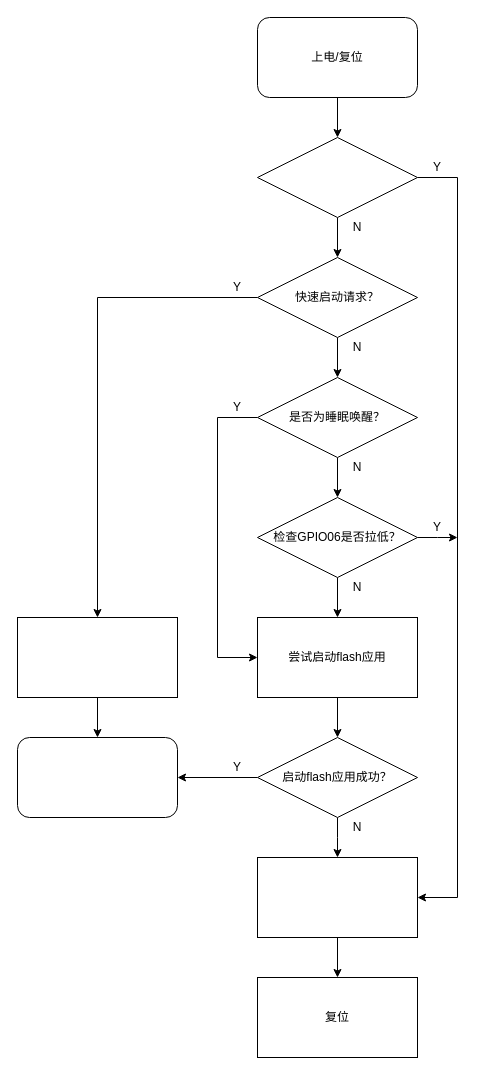
Image size: 483x1075. Some labels were removed from this diagram. The centre of each missing label's shape, as x and y in pixels:
"PC跳转到0x48000000" goes at pixel 97 777.
"直接启动flash应用" goes at pixel 97 657.
"软件升级请求？" goes at pixel 337 177.
"进入升级模式" goes at pixel 337 897.
